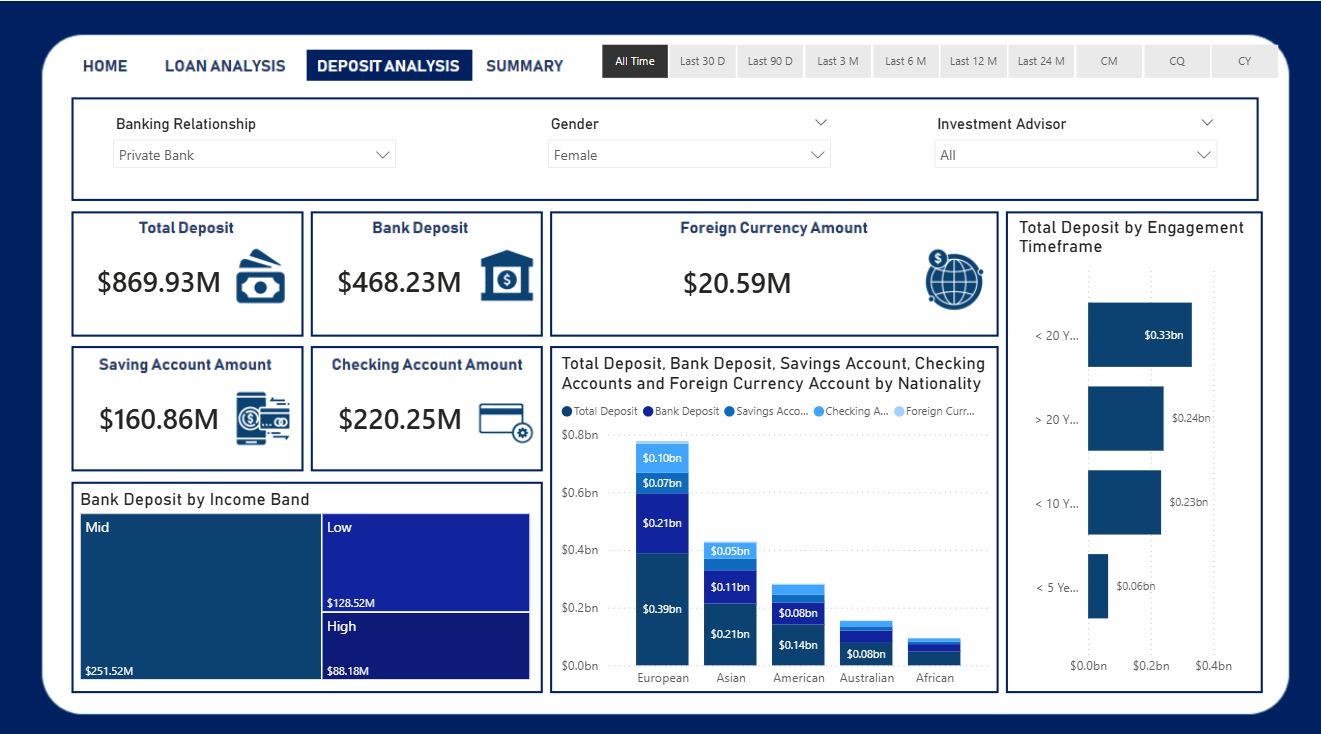

The dashboard page shown, as its layout file describes it:
{"tool":"powerbi","page":{"name":"Deposit Analysis","canvas":[1280,720],"ordinal":2},"visuals":[{"type":"card","fields":{"Values":["DAX Measures.Total Deposit"]},"box":[72.7,226.3,161.8,90.3],"z":0},{"type":"card","fields":{"Values":["DAX Measures.Bank Deposit"]},"box":[299,226.3,172.4,89.1],"z":1000},{"type":"card","fields":{"Values":["DAX Measures.Savings Account"]},"box":[72.7,360,161.8,89.1],"z":2000},{"type":"card","fields":{"Values":["DAX Measures.Checking Accounts"]},"box":[300.2,360,171.2,89.1],"z":3000},{"type":"slicer","fields":{"Values":["Banking Relationship.Banking Relationship"]},"box":[98.5,105.2,292.9,75.7],"z":4000},{"type":"slicer","fields":{"Values":["Gender.Gender"]},"box":[518.9,105.2,292.9,75.7],"z":5000},{"type":"slicer","fields":{"Values":["Investment Advisor.Investment Advisor"]},"box":[891.3,105.2,292.9,75.7],"z":6000},{"type":"card","fields":{"Values":["DAX Measures.Foreign Currency Account"]},"box":[537.1,227.5,349.4,89.1],"z":7000},{"type":"treemap","fields":{"Group":["Clients - Banking.Income Band"],"Values":["DAX Measures.Bank Deposit"]},"box":[72.7,470.2,444.4,190],"z":8000},{"type":"columnChart","fields":{"Category":["Clients - Banking.Nationality"],"Y":["DAX Measures.Total Deposit","DAX Measures.Bank Deposit","DAX Measures.Savings Account","DAX Measures.Checking Accounts","DAX Measures.Foreign Currency Account"]},"box":[537.1,338.9,423.3,331.9],"z":9000},{"type":"clusteredBarChart","fields":{"Category":["Clients - Banking.Engagement Timeframe"],"Y":["DAX Measures.Total Deposit"]},"box":[978,207.6,234.5,452.6],"z":10000},{"type":"slicer","fields":{"Values":["Period.Name"]},"box":[555.2,34.6,702.1,46.6],"z":11000},{"type":"actionButton","box":[72.8,44.2,58.5,31],"z":12000},{"type":"actionButton","box":[160,44.2,119.4,31],"z":13000},{"type":"actionButton","box":[471.6,44.2,83.6,31],"z":14000}]}

Visuals, with their boxes in screenshot pixels (x1, y1, x2, y2), scaled from the page's 1280x720 canvas onto the 1321x734 screenshot:
card - DAX Measures.Total Deposit: Rect(75, 231, 242, 323)
card - DAX Measures.Bank Deposit: Rect(309, 231, 486, 322)
card - DAX Measures.Savings Account: Rect(75, 367, 242, 458)
card - DAX Measures.Checking Accounts: Rect(310, 367, 486, 458)
slicer - Banking Relationship.Banking Relationship: Rect(102, 107, 404, 184)
slicer - Gender.Gender: Rect(536, 107, 838, 184)
slicer - Investment Advisor.Investment Advisor: Rect(920, 107, 1222, 184)
card - DAX Measures.Foreign Currency Account: Rect(554, 232, 915, 323)
treemap - Clients - Banking.Income Band x DAX Measures.Bank Deposit: Rect(75, 479, 534, 673)
columnChart - Clients - Banking.Nationality x DAX Measures.Total Deposit: Rect(554, 345, 991, 684)
clusteredBarChart - Clients - Banking.Engagement Timeframe x DAX Measures.Total Deposit: Rect(1009, 212, 1251, 673)
slicer - Period.Name: Rect(573, 35, 1298, 83)
actionButton: Rect(75, 45, 136, 77)
actionButton: Rect(165, 45, 288, 77)
actionButton: Rect(487, 45, 573, 77)
